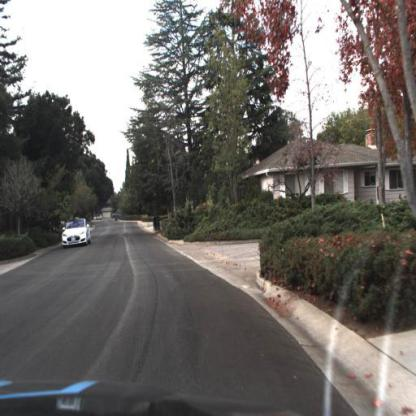car: (63, 219, 91, 250)
